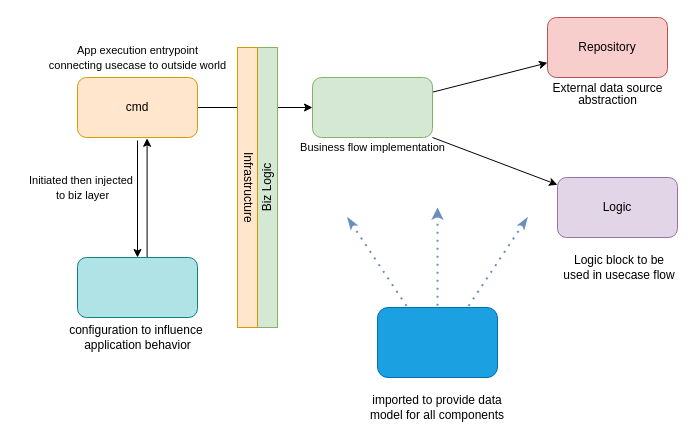
This 695x445 diagram has some shape labels left out. The shapes that lost their labels are listed below. From the top down, each one's centre as x and y in pixels, then its label:
At pixel 372 107: "Usecase".
At pixel 137 287: "config".
At pixel 437 342: "Model".
